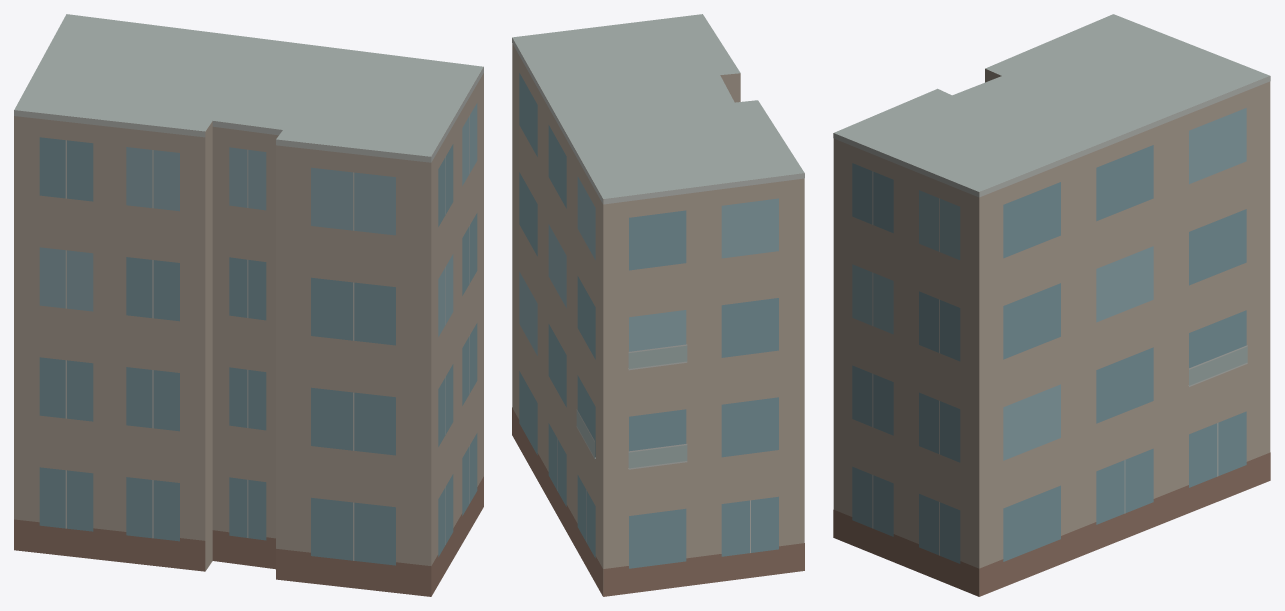
The model's file is survey-upis-32770706.glb.
3 views of the same model, side by side, from view 1: azimuth 30°, elevation 25°; view 2: azimuth 150°, elevation 25°; view 3: azimuth 270°, elevation 25° (orthographic). The views are drawn at different scales.
Visible parts, largest first — view 1: survey-upis-32770706.tmp; view 2: survey-upis-32770706.tmp; view 3: survey-upis-32770706.tmp.
Part boxes in pixels (box(x1,y1,x2,y2)): survey-upis-32770706.tmp: box(14, 14, 483, 596); survey-upis-32770706.tmp: box(512, 14, 804, 596); survey-upis-32770706.tmp: box(833, 14, 1270, 596).
Bounding box in the file's own units: 17.08 × 18.1 × 17.71.
